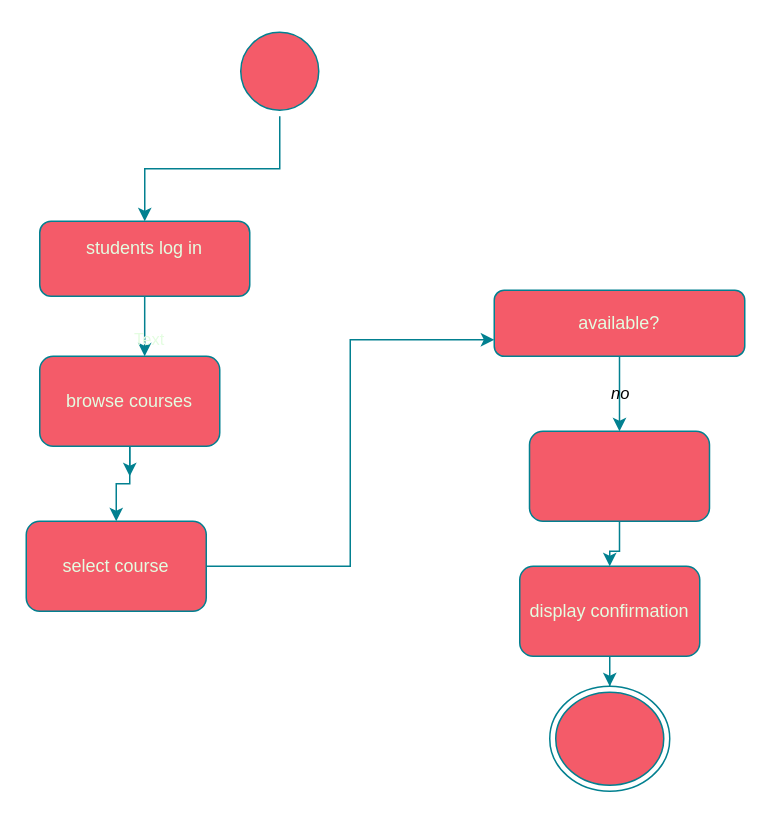
The diagram is 771 pixels wide and 818 high, and some of its shapes have lost their labels. Here are the shapes that lost their labels. From the top down, the centre of each, then its label:
At point (279, 70): "start".
At point (619, 475): "update dp".
At point (609, 738): "end".
